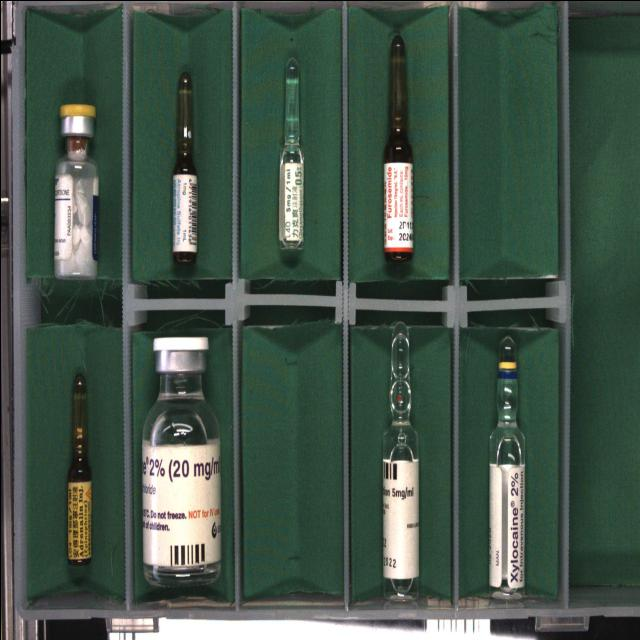Vials: (141, 336, 220, 585), (53, 102, 99, 279)
